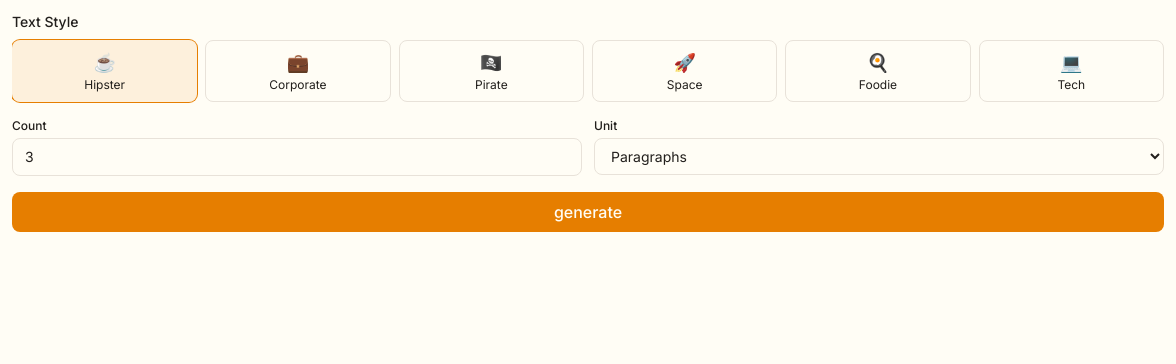
Test case: LoremIpsumAlternative - Deep Tests › generates sentences
The width and height of the screenshot is (1176, 364).
Select "Sentences" in the dropdown: (879, 156) [594, 138, 1164, 175]
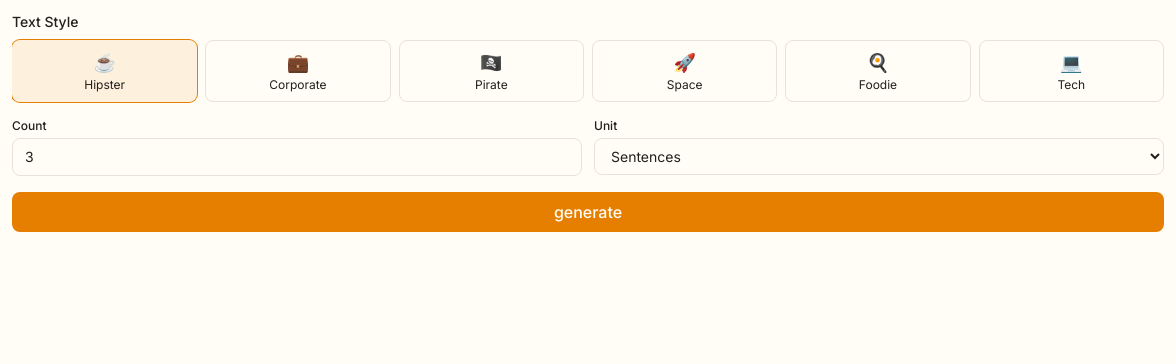
Click the button "generate": (588, 212) [12, 192, 1164, 232]
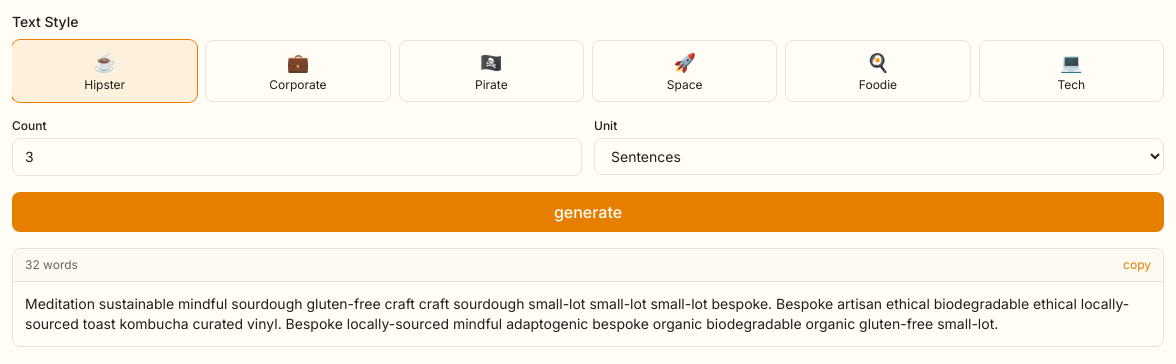
Check: the text "." is shown, box [25, 295, 1129, 332]
